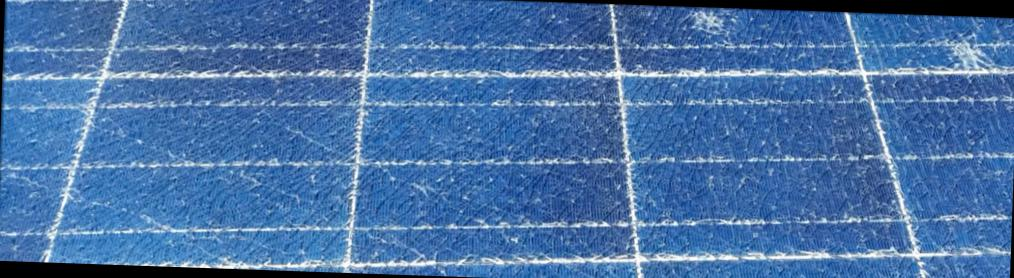Crack: (930, 29, 1006, 78), (669, 9, 740, 45)
